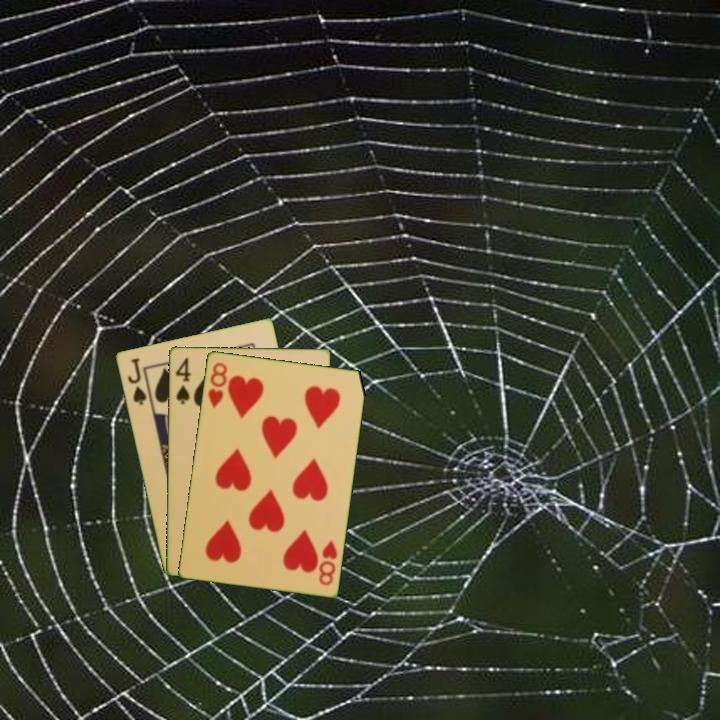4s: (172, 354, 193, 407)
8h: (204, 358, 230, 411), (315, 537, 340, 588)
Js: (124, 354, 149, 408)
